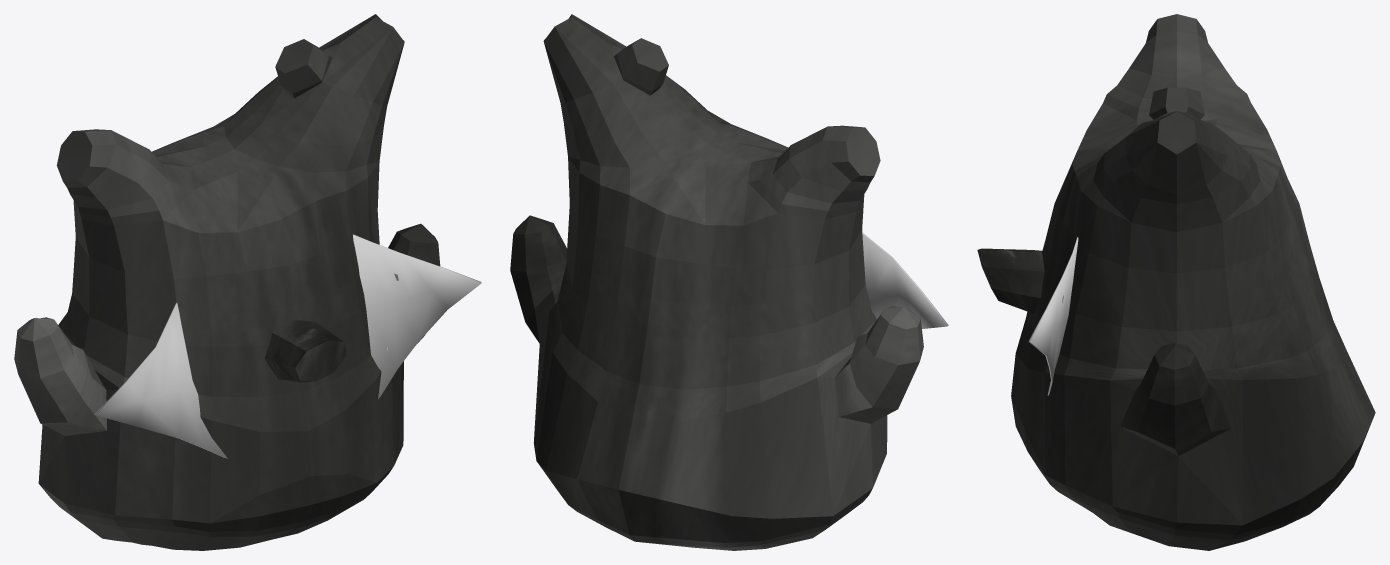
File: frame_0068.obj
3 views of the same model, side by side, from view 1: azimuth 30°, elevation 25°; view 2: azimuth 150°, elevation 25°; view 3: azimuth 270°, elevation 25° (orthographic). The views are drawn at different scales.
Visible parts, largest first — view 1: korok, leaf, nose; view 2: korok, leaf; view 3: korok, nose, leaf.
Part boxes in pixels (box(x1,y1,x2,y2)): korok: box(14, 14, 440, 550); leaf: box(94, 234, 481, 458); nose: box(265, 319, 346, 382); korok: box(510, 14, 923, 550); leaf: box(862, 232, 948, 328); korok: box(1011, 14, 1375, 550); nose: box(977, 248, 1044, 313); leaf: box(1028, 237, 1078, 395).
Bounding box in the file's own units: 1.53 × 1.65 × 1.27.
